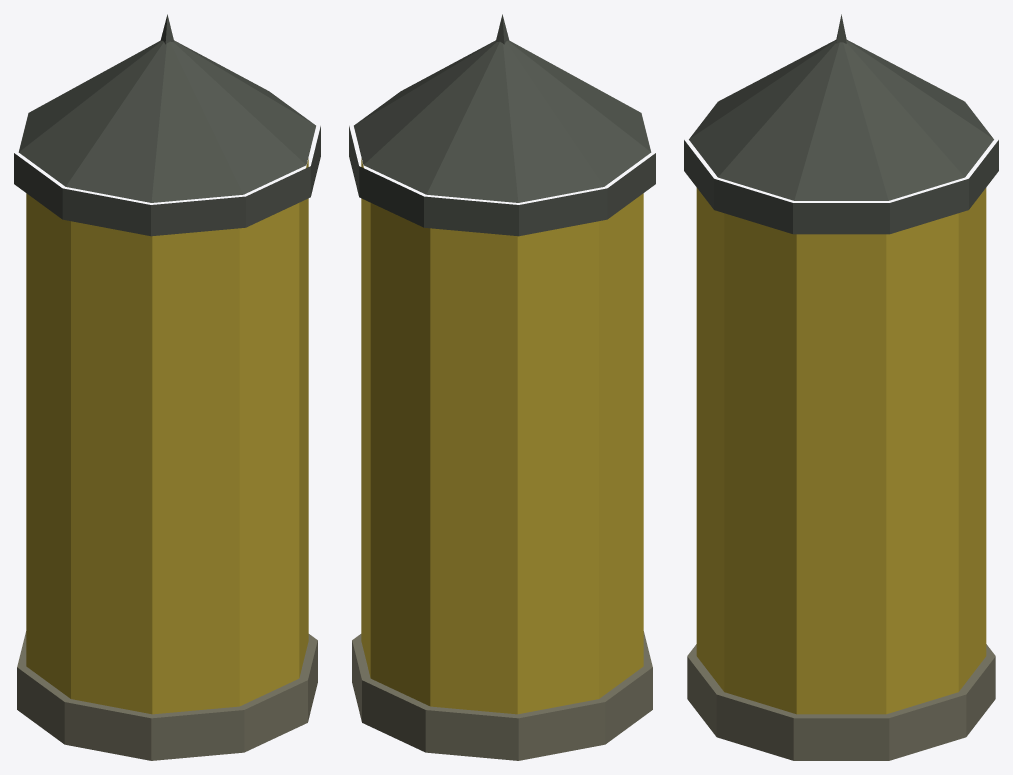
Rendered from ad-column.glb.
The picture shows the model from 3 angles, left to right: view 1: azimuth 30°, elevation 25°; view 2: azimuth 150°, elevation 25°; view 3: azimuth 270°, elevation 25°; orthographic projection.
Visible parts, largest first — view 1: ad-column; view 2: ad-column; view 3: ad-column.
Boxes of the visible parts, x1,y1,x2,y2 form: ad-column: (14, 14, 320, 760); ad-column: (349, 14, 655, 760); ad-column: (684, 14, 998, 760).
Size of the model in its own units: 1.9 by 4.8 by 2.
